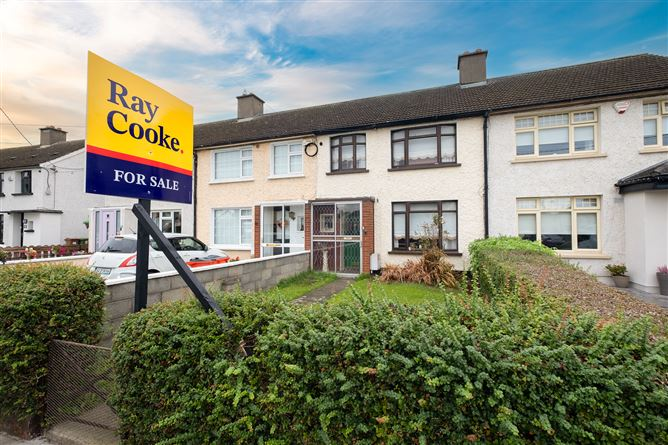property sign: (78, 44, 203, 214)
